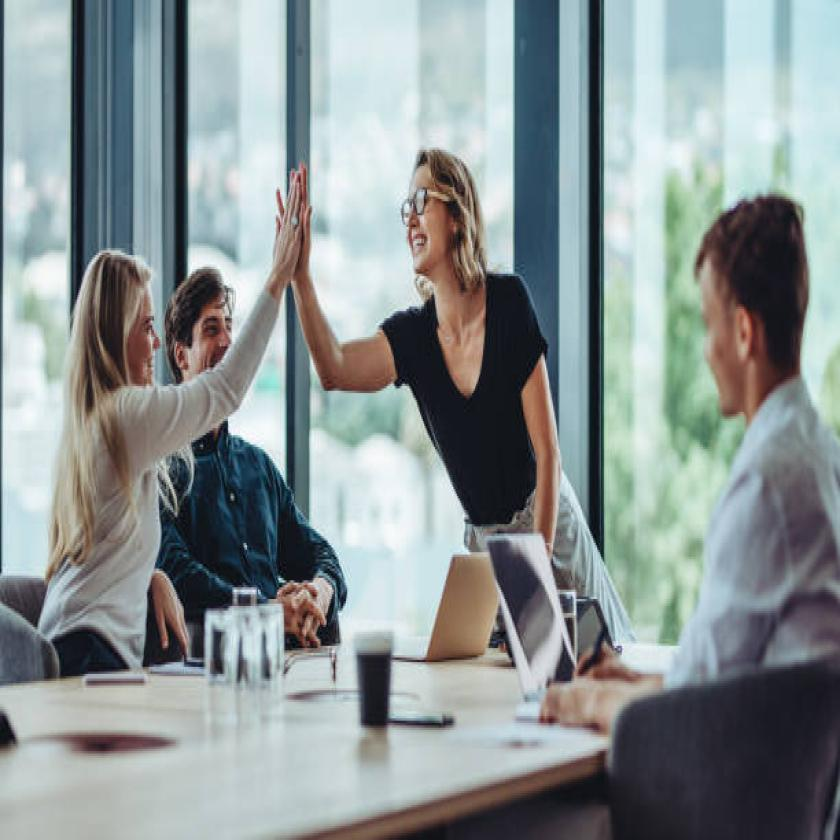Sin_casco: (689, 182, 840, 429), (68, 240, 167, 408), (389, 140, 486, 302), (163, 258, 257, 399)
